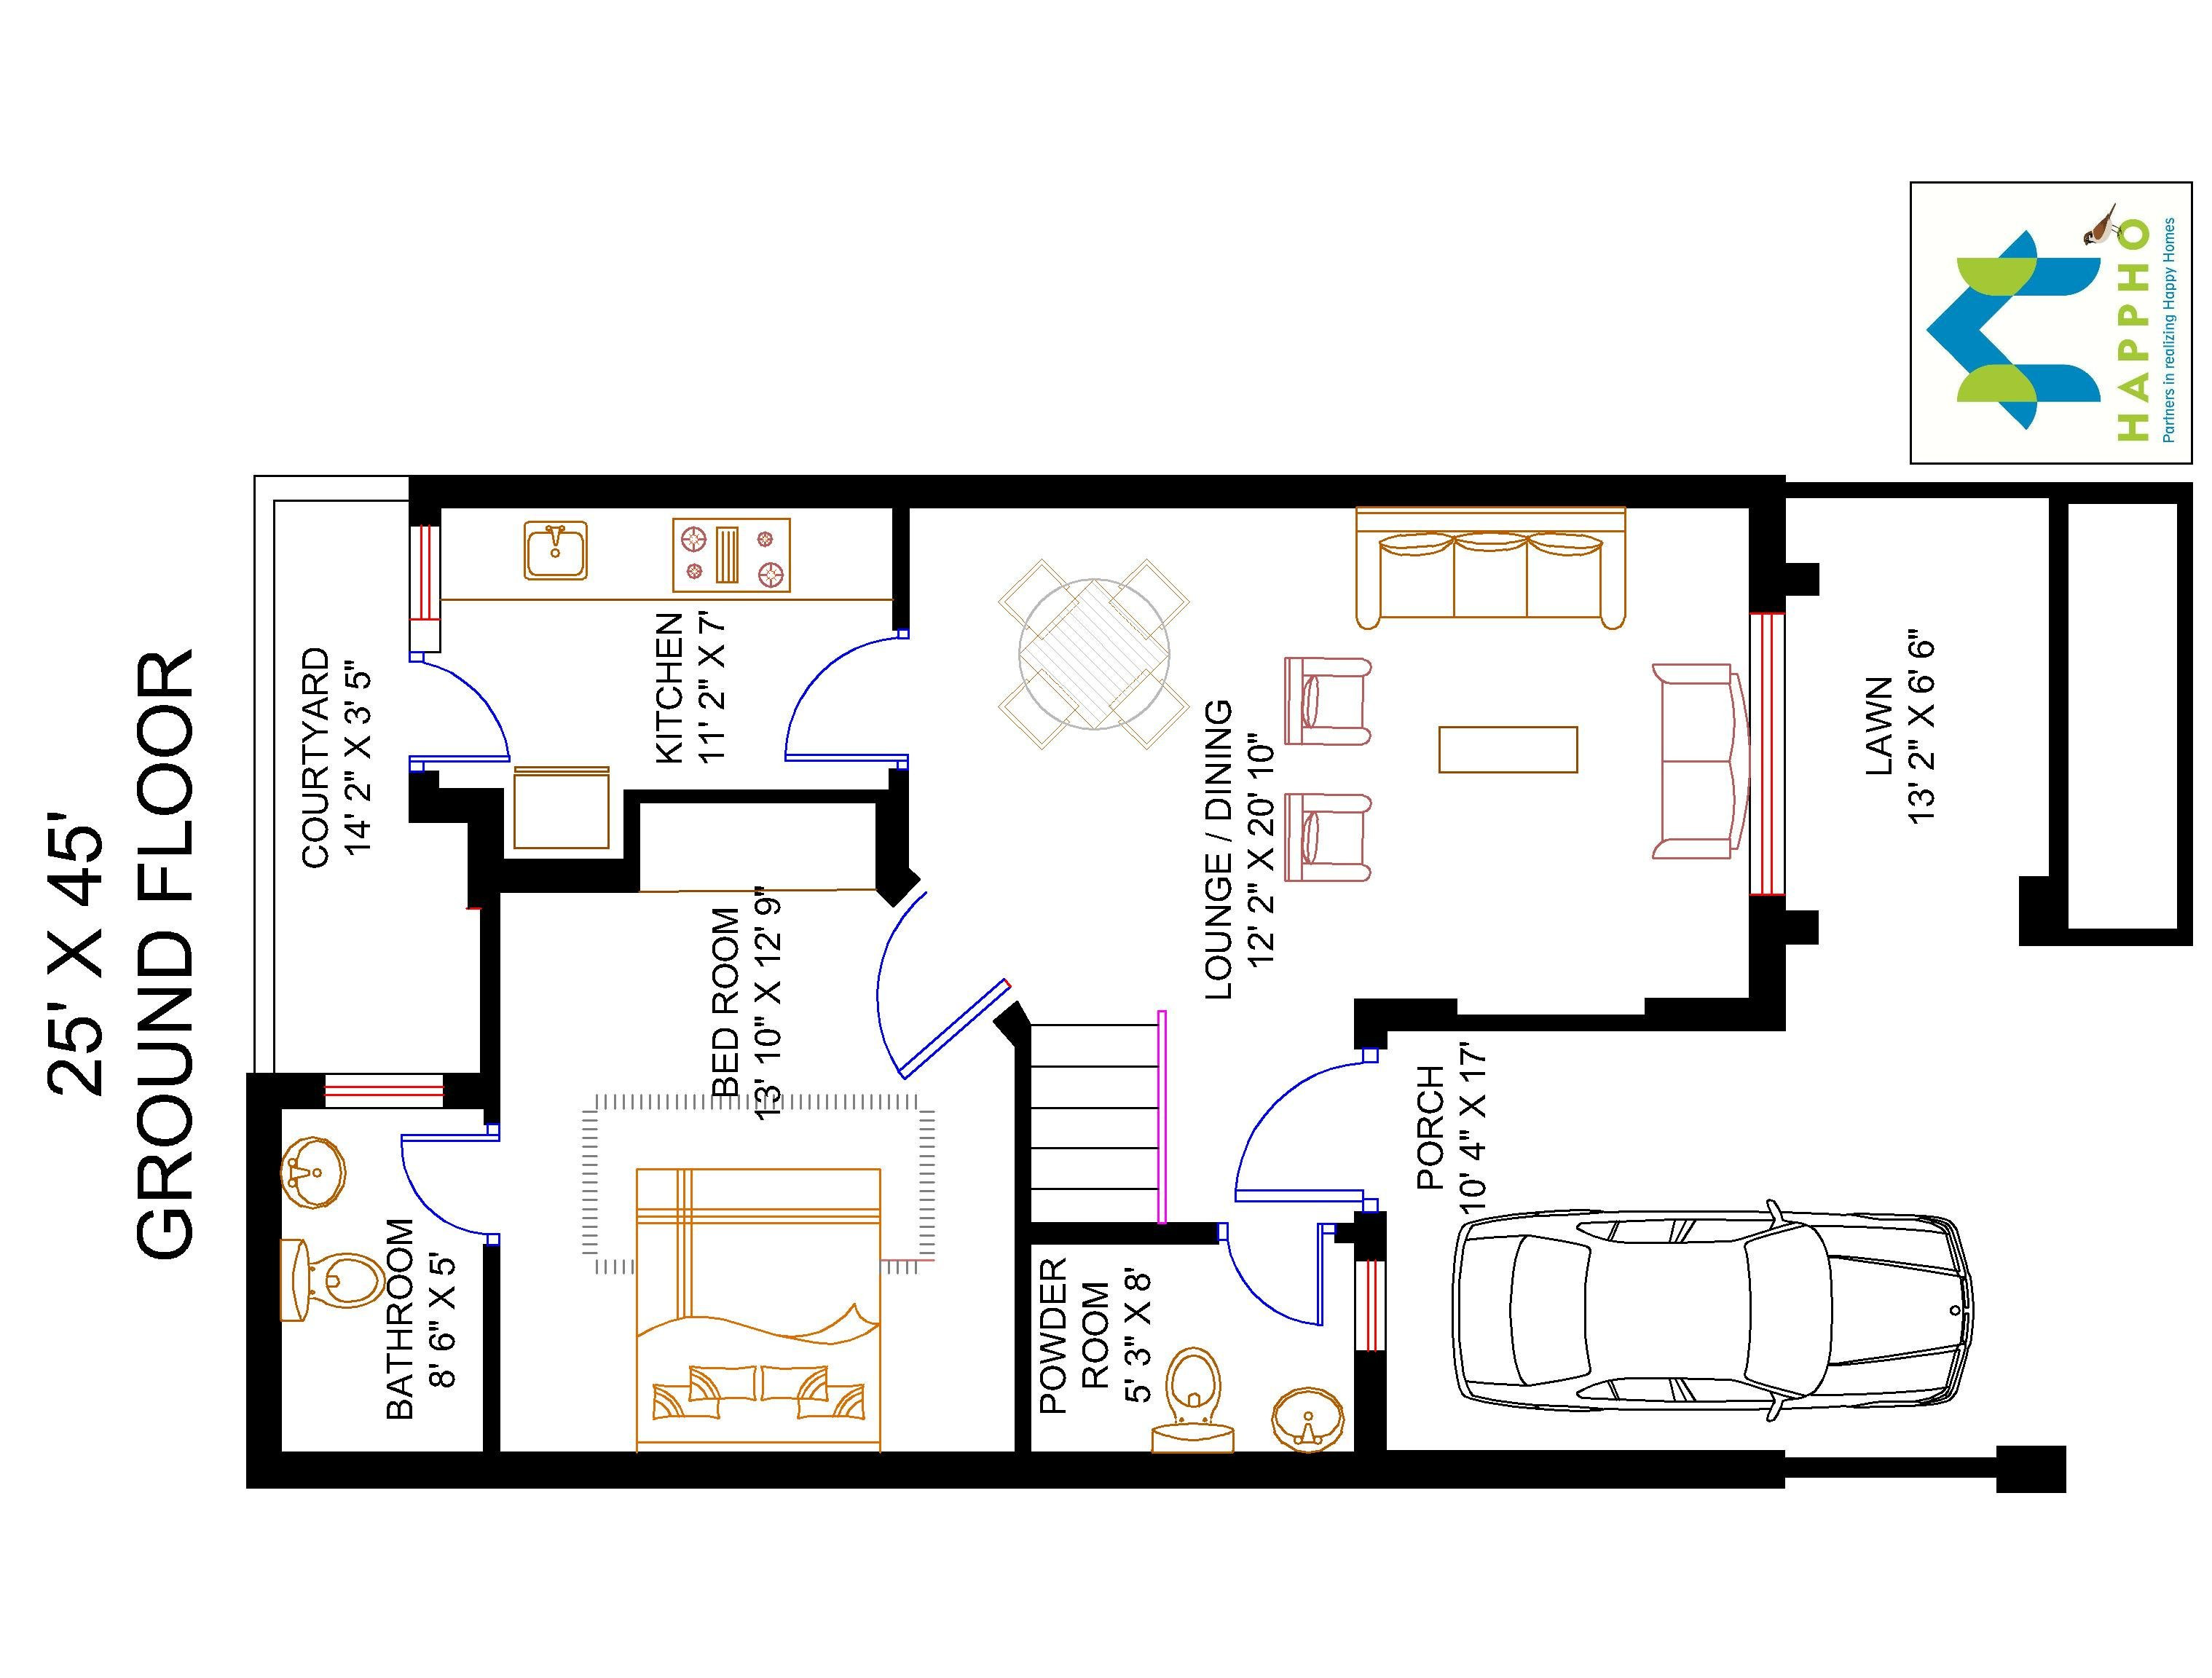window: (1743, 610, 1791, 902), (317, 1066, 446, 1114), (402, 516, 442, 629), (1348, 1251, 1389, 1364)
